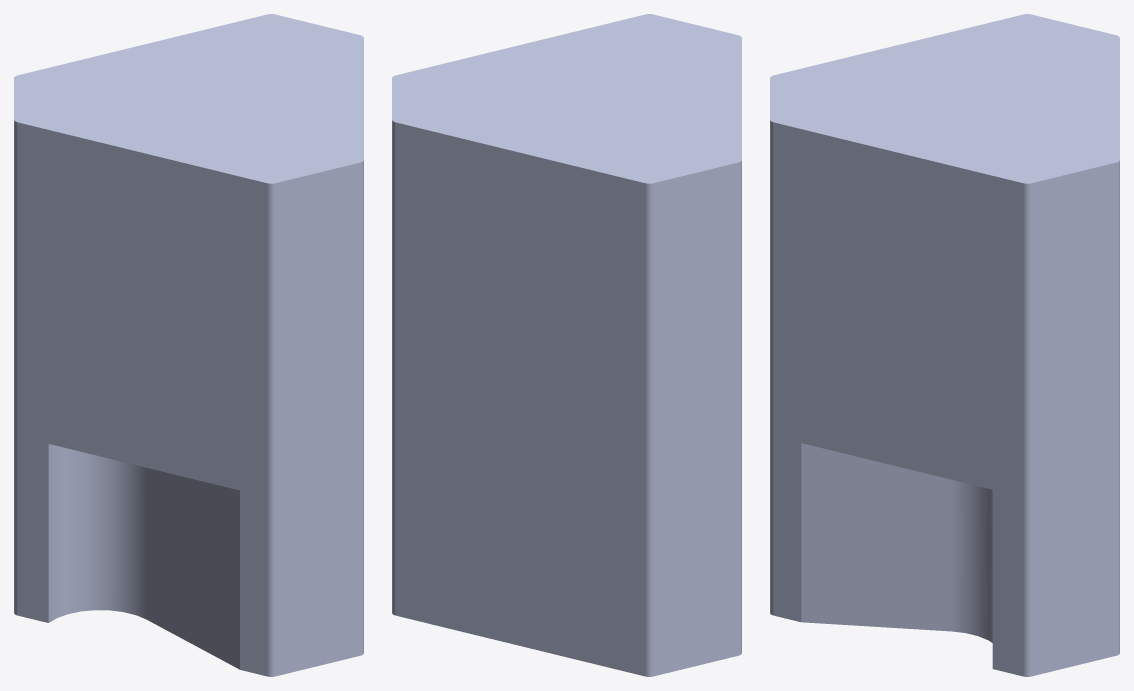
The model's file is Bottom Collision Box v1.fbx.
3 views of the same model, side by side, from view 1: azimuth 30°, elevation 25°; view 2: azimuth 150°, elevation 25°; view 3: azimuth 270°, elevation 25° (orthographic).
Visible parts, largest first — view 1: Body1; view 2: Body1; view 3: Body1.
Part boxes in pixels (x1,y1,x2,y2): Body1: (14,14,363,676); Body1: (392,14,741,676); Body1: (770,14,1119,676).
Size of the model in its own units: 2528 by 3425 by 2202.
